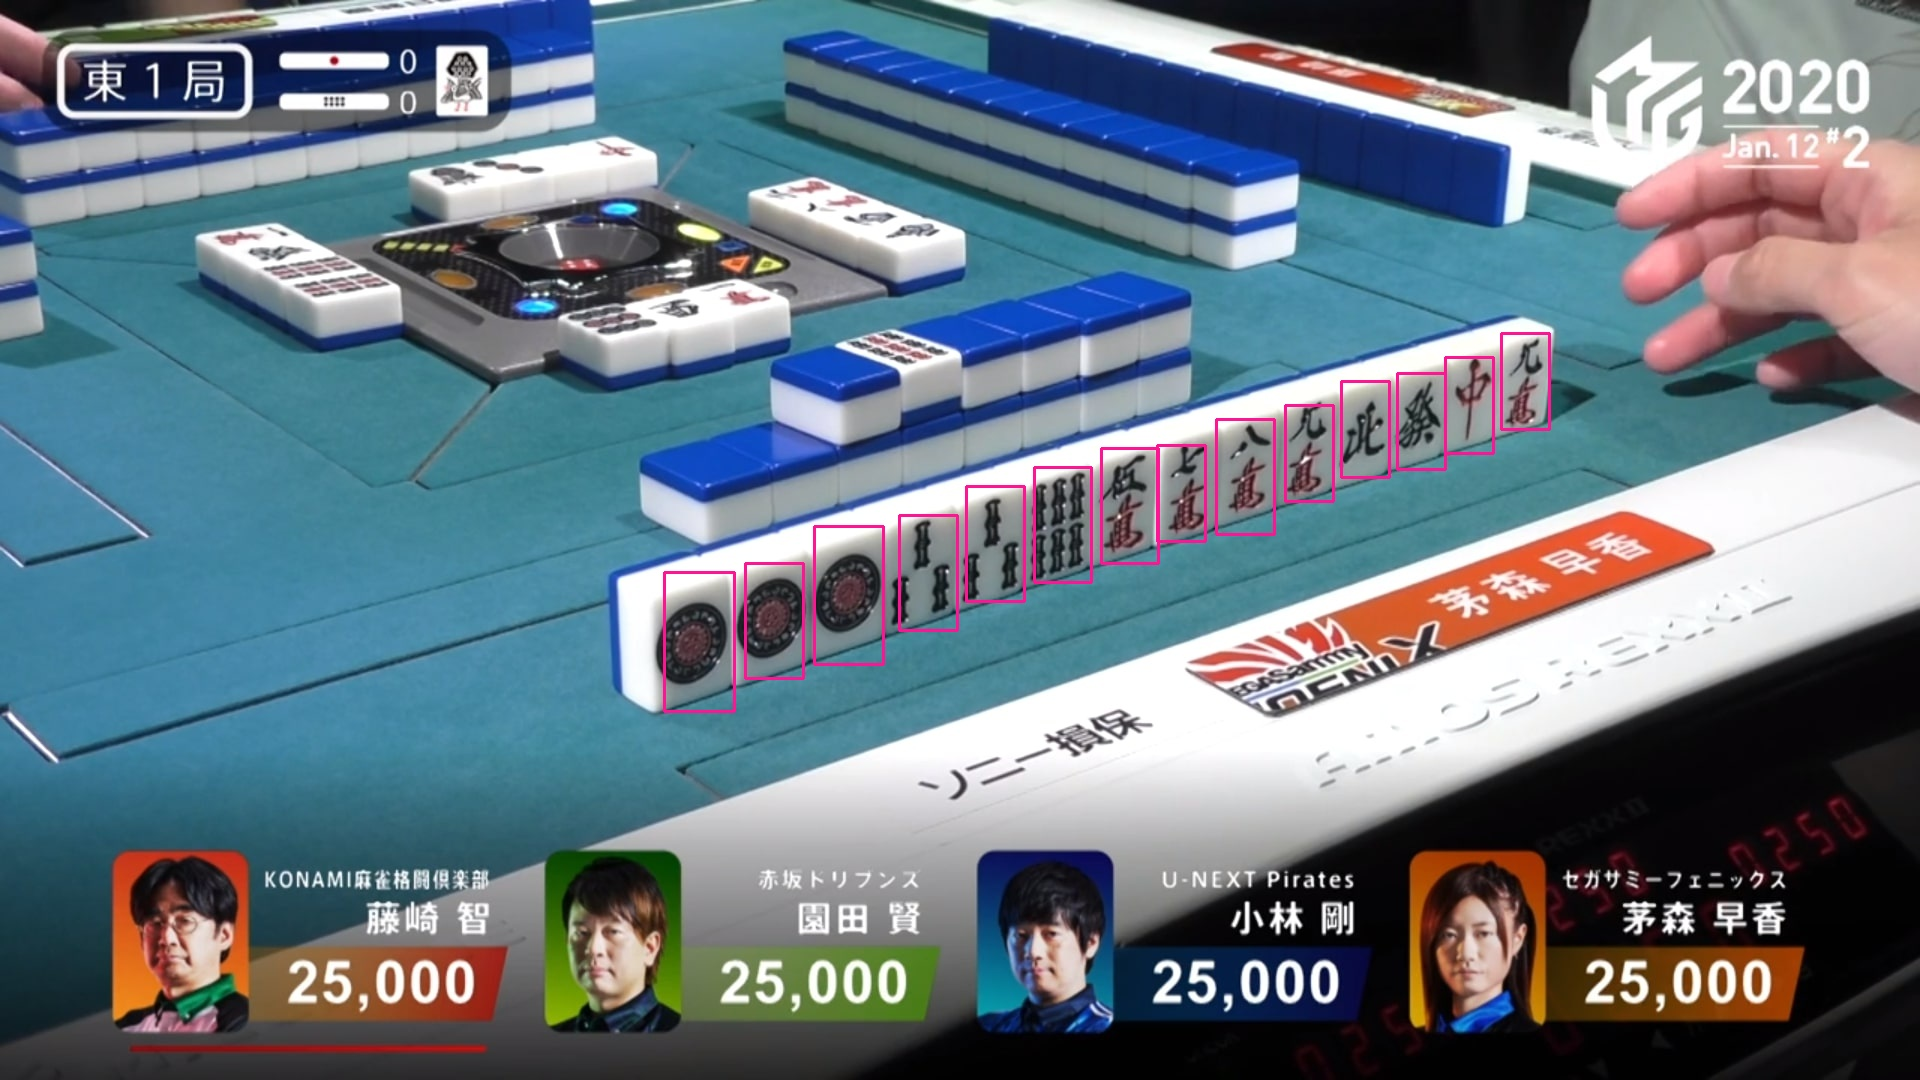1pin: (720, 560, 808, 674), (806, 531, 880, 647)
3sou: (948, 492, 1021, 604), (880, 508, 948, 618)
5pin: (1491, 324, 1545, 422)
5wan: (1089, 448, 1149, 547)
6sou: (1021, 460, 1083, 568)
7wan: (1153, 427, 1209, 531)
8wan: (1212, 410, 1274, 518)
9wan: (1269, 386, 1329, 492)
chun: (1429, 349, 1485, 439)
hatsu: (1382, 369, 1437, 460)
pe: (1327, 381, 1379, 472)
